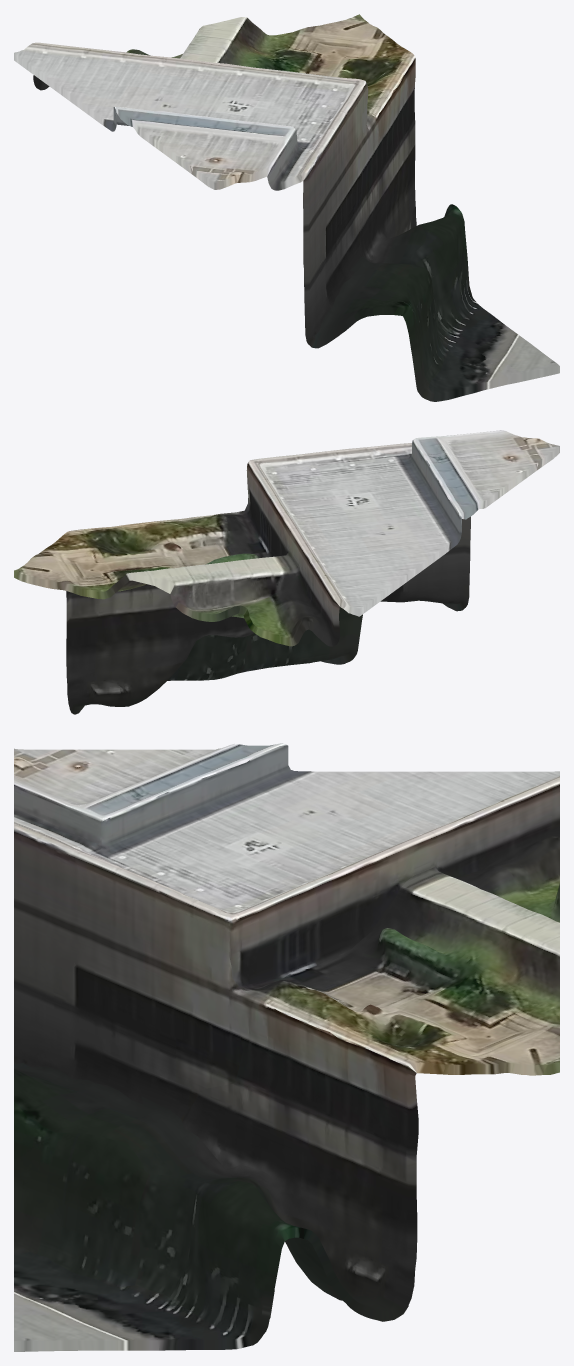
File: z20-167786-405229-h0-yup-uvflip-v3-world.glb
3 views of the same model, one above another, from view 1: azimuth 30°, elevation 25°; view 2: azimuth 150°, elevation 25°; view 3: azimuth 270°, elevation 25° (orthographic). The views are drawn at different scales.
Size of the model in its own units: 30.16 by 23.28 by 30.32.
Materials: 1 (1 with a texture image).
